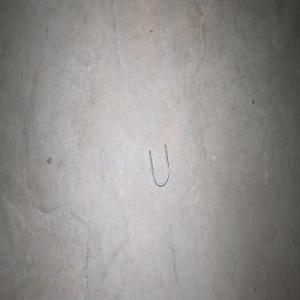ClampPart: (148, 143, 169, 187)
